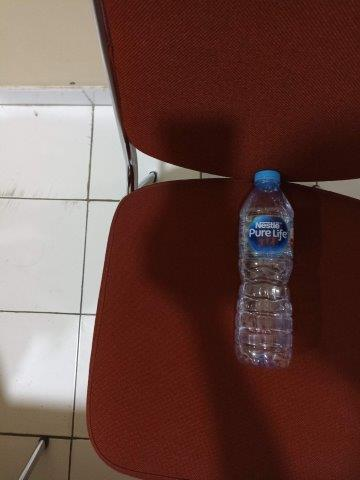botolplastik: (232, 170, 295, 365)
